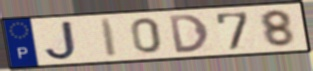0: (128, 16, 167, 56)
7: (214, 10, 251, 51)
8: (257, 8, 298, 48)
D: (166, 13, 211, 55)
I: (98, 17, 120, 59)
J: (43, 20, 79, 62)
